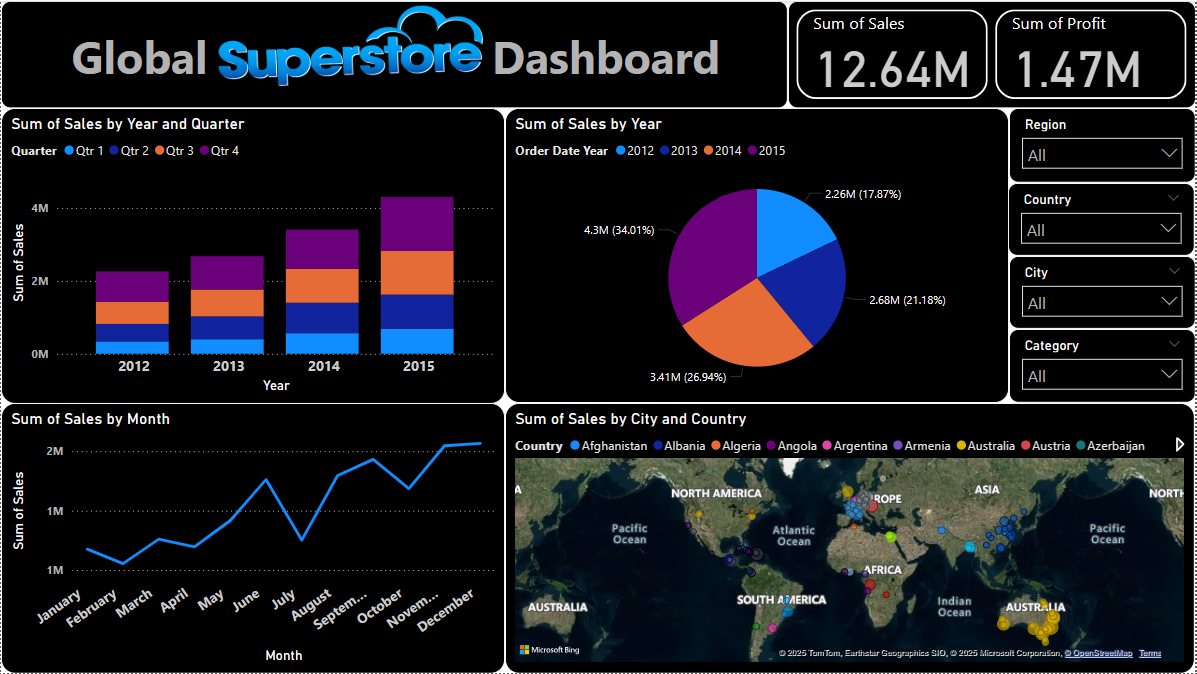

What the dashboard file says about the page in this screenshot:
{"tool":"powerbi","page":{"name":"DashBoard","canvas":[1280,720],"ordinal":0},"visuals":[{"type":"textbox","box":[0,0,842.7,114.6],"z":0},{"type":"cardVisual","fields":{"Data":["Sum(Orders.Sales)","Sum(Orders.Profit)"]},"box":[842.7,0,437.3,114.6],"z":1000},{"type":"pieChart","fields":{"Y":["Sum(Orders.Sales)"],"Category":["Orders.Order Date.Variation.Date Hierarchy.Year"]},"box":[539.8,114.6,539.8,316.1],"z":2000},{"type":"lineChart","fields":{"Y":["Sum(Orders.Sales)"],"Category":["Orders.Order Date.Variation.Date Hierarchy.Month"]},"box":[0,430.7,539.8,289.7],"z":3000},{"type":"columnChart","title":"Sum of Sales by Year and Quarter","fields":{"Category":["Orders.Order Date.Variation.Date Hierarchy.Year"],"Y":["Sum(Orders.Sales)"],"Series":["Orders.Order Date.Variation.Date Hierarchy.Quarter"]},"box":[0,114.4,540,316.7],"z":4000},{"type":"map","fields":{"Size":["Sum(Orders.Sales)"],"Series":["Orders.Country"],"Category":["Orders.City"]},"box":[539.8,430.7,739.1,289.7],"z":5000},{"type":"slicer","fields":{"Values":["Orders.Region"]},"box":[1079.5,114.6,200.5,80.4],"z":6000},{"type":"slicer","fields":{"Values":["Orders.Country"]},"box":[1078.4,195,200.5,78.2],"z":7000},{"type":"slicer","fields":{"Values":["Orders.City"]},"box":[1079.5,273.2,200.5,78.2],"z":8000},{"type":"slicer","fields":{"Values":["Orders.Category"]},"box":[1079.5,351.4,200.5,79.3],"z":9000},{"type":"image","box":[227.8,0,293.3,95.6],"z":10000}]}

Visuals, with their boxes in screenshot pixels (x1, y1, x2, y2), scaled from the page's 1280x720 canvas onto the 1197x674 screenshot:
textbox: 0, 0, 788, 107
cardVisual - Sum(Orders.Sales) x Sum(Orders.Profit): 788, 0, 1196, 107
pieChart - Sum(Orders.Sales) x Orders.Order Date.Variation.Date Hierarchy.Year: 505, 107, 1010, 403
lineChart - Sum(Orders.Sales) x Orders.Order Date.Variation.Date Hierarchy.Month: 0, 403, 505, 673
"Sum of Sales by Year and Quarter" columnChart: 0, 107, 505, 404
map - Sum(Orders.Sales) x Orders.Country: 505, 403, 1196, 673
slicer - Orders.Region: 1010, 107, 1196, 183
slicer - Orders.Country: 1008, 183, 1196, 256
slicer - Orders.City: 1010, 256, 1196, 329
slicer - Orders.Category: 1010, 329, 1196, 403
image: 213, 0, 487, 89
